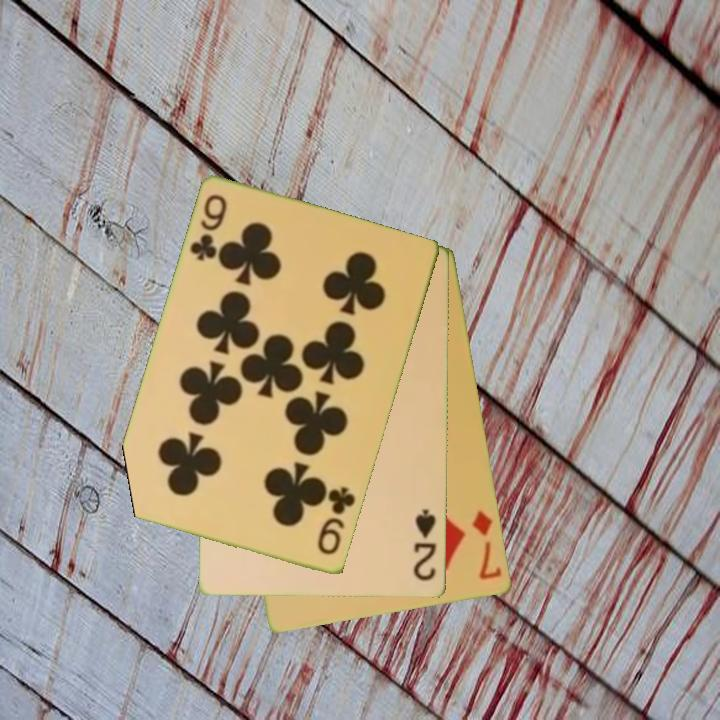2s: (410, 506, 440, 585)
7d: (469, 507, 505, 583)
9c: (314, 483, 359, 559), (186, 191, 231, 265)
